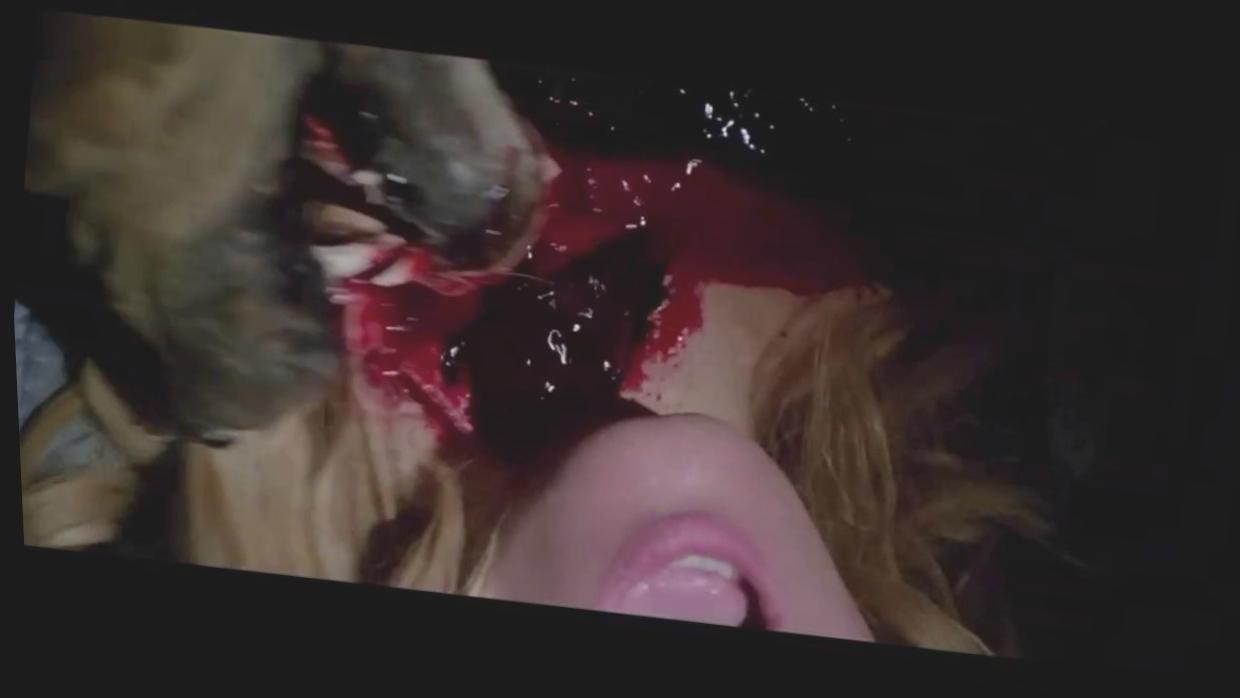Fire: (297, 47, 864, 476)
